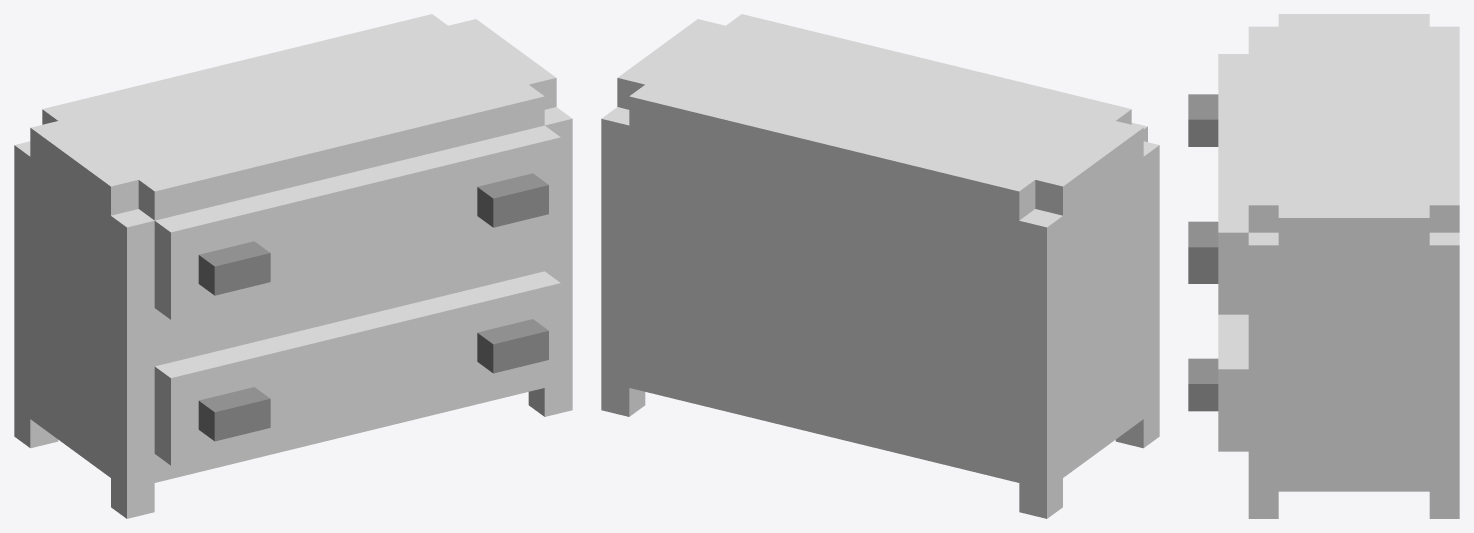
Rendered from Komoda1.dae.
The picture shows the model from 3 angles, left to right: view 1: azimuth 30°, elevation 25°; view 2: azimuth 150°, elevation 25°; view 3: azimuth 270°, elevation 25°; orthographic projection. The views are drawn at different scales.
Parts seen in each view (by area): view 1: Komoda; view 2: Komoda; view 3: Komoda.
Boxes of the visible parts, <box> form: Komoda: <box>14,14,572,518</box>; Komoda: <box>601,14,1159,518</box>; Komoda: <box>1188,14,1459,518</box>.
Size of the model in its own units: 16 by 11 by 9.
Materials: 1 (1 with a texture image).
